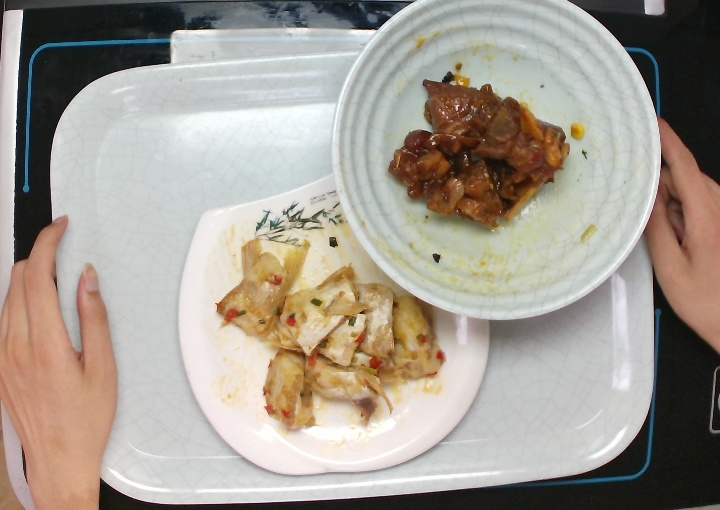JYsf-Da_Tang_Wan: (328, 1, 664, 323)
JYsf-Mian_Pan: (173, 167, 496, 481)
